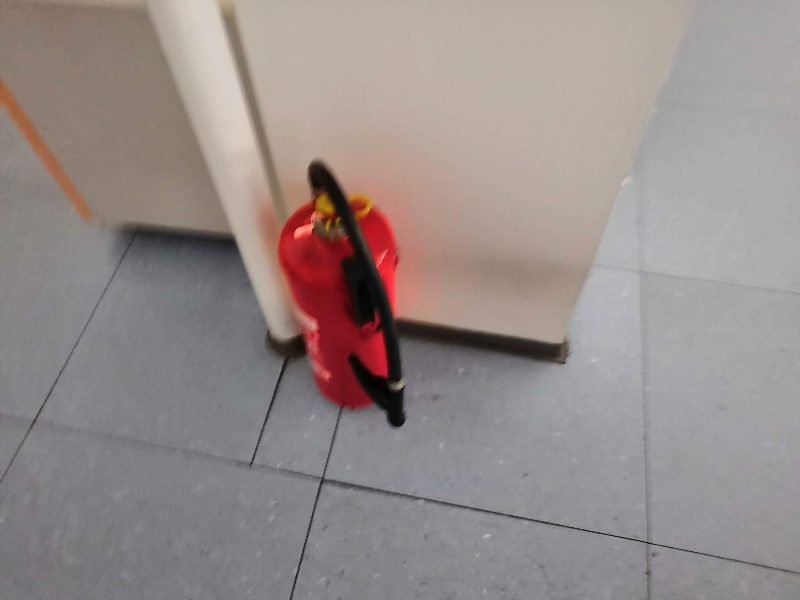vataparat: (275, 160, 408, 427)
